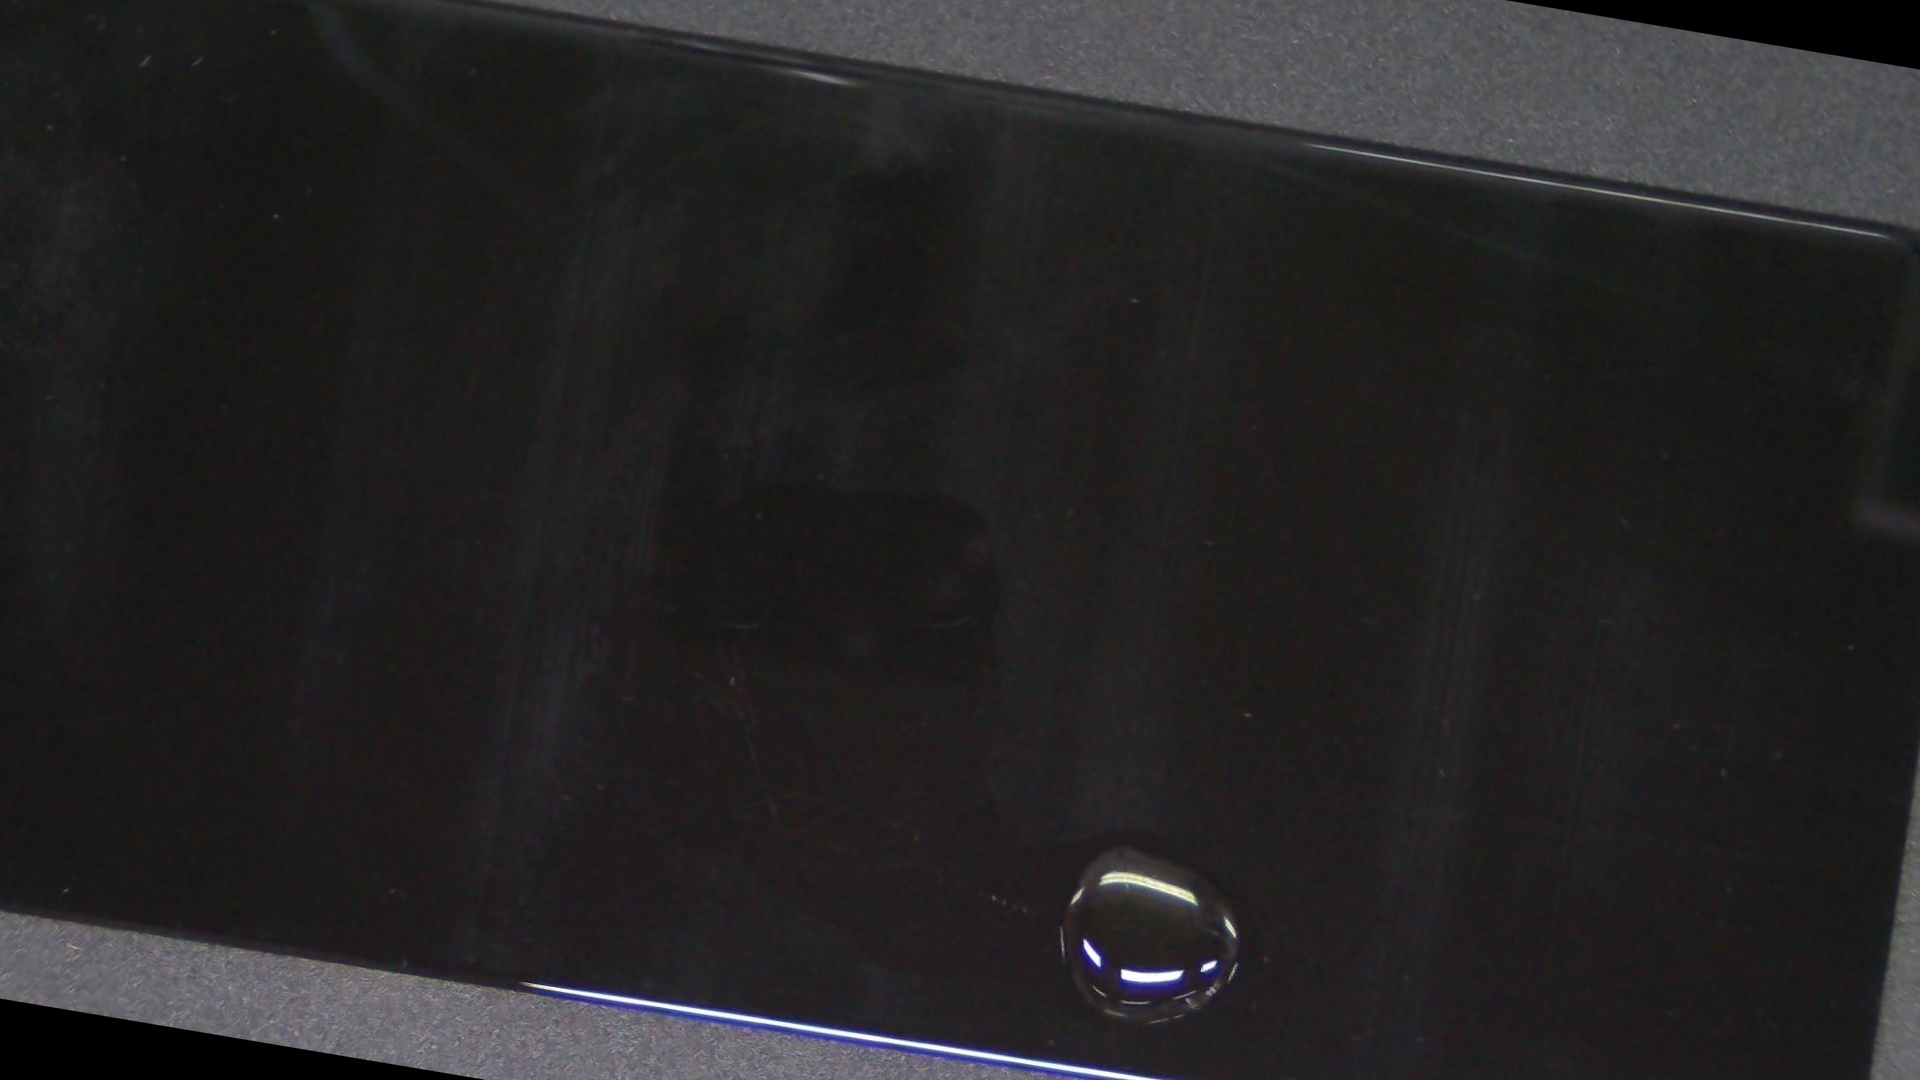oil: (388, 289, 1879, 1080)
